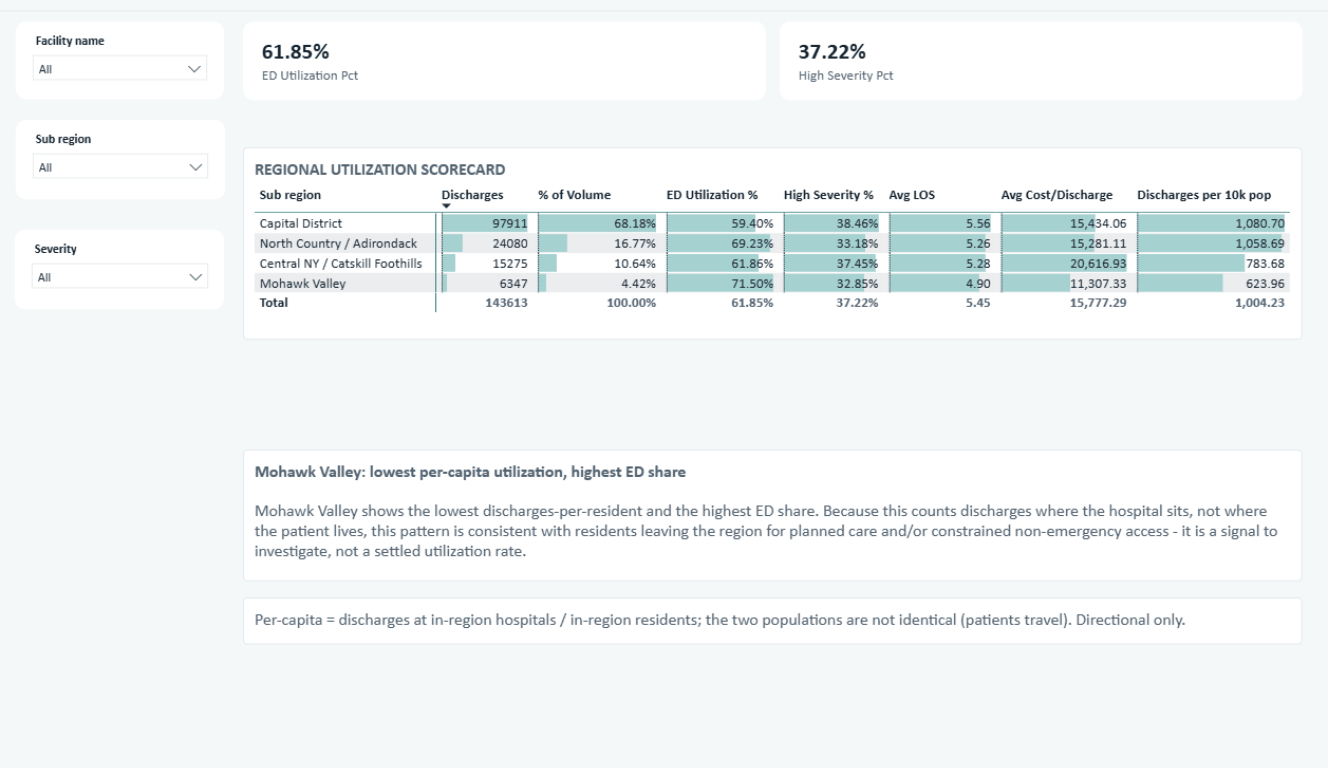

What the dashboard file says about the page in this screenshot:
{"tool":"powerbi","page":{"name":"Urban vs. Rural Utilization (Q5)","canvas":[1280,720],"ordinal":5},"visuals":[{"type":"cardVisual","fields":{"Data":["_Measures.ED Utilization Pct"]},"box":[236,13.4,500,75],"z":3000},{"type":"cardVisual","fields":{"Data":["_Measures.High Severity Pct"]},"box":[750,13.4,500,75],"z":4000},{"type":"pivotTable","title":"REGIONAL UTILIZATION SCORECARD","fields":{"Rows":["dim_facility.sub_region"],"Values":["_Measures.Total Discharges","_Measures.Pct of Total Volume","_Measures.ED Utilization Pct","_Measures.High Severity Pct","_Measures.Avg Length of Stay (Days)","_Measures.Avg Cost per Discharge","_Measures.Discharges per 10k Population"]},"box":[236.6,132.9,1013.4,184.1],"z":5000},{"type":"textbox","box":[236.6,422,1013.4,125.6],"z":6000},{"type":"textbox","box":[236.6,563.4,1013.4,45.1],"z":7000},{"type":"slicer","title":"FACILITY NAME","fields":{"Values":["dim_facility.facility_name"]},"box":[19.5,13.4,198.8,74.4],"z":8000},{"type":"slicer","title":"SUB REGION","fields":{"Values":["dim_facility.sub_region"]},"box":[19.5,107.3,200,75.6],"z":9000},{"type":"slicer","title":"APR SEVERITY OF ILLNESS","fields":{"Values":["fact_discharges.apr_severity_of_illness"]},"box":[18.3,212.2,200,75.6],"z":10000}]}

Visuals, with their boxes in screenshot pixels (x1, y1, x2, y2), scaled from the page's 1280x720 canvas onto the 1328x768 screenshot:
cardVisual - _Measures.ED Utilization Pct: left=245, top=14, right=764, bottom=94
cardVisual - _Measures.High Severity Pct: left=778, top=14, right=1297, bottom=94
"REGIONAL UTILIZATION SCORECARD" pivotTable: left=245, top=142, right=1297, bottom=338
textbox: left=245, top=450, right=1297, bottom=584
textbox: left=245, top=601, right=1297, bottom=649
"FACILITY NAME" slicer: left=20, top=14, right=226, bottom=94
"SUB REGION" slicer: left=20, top=114, right=228, bottom=195
"APR SEVERITY OF ILLNESS" slicer: left=19, top=226, right=226, bottom=307
